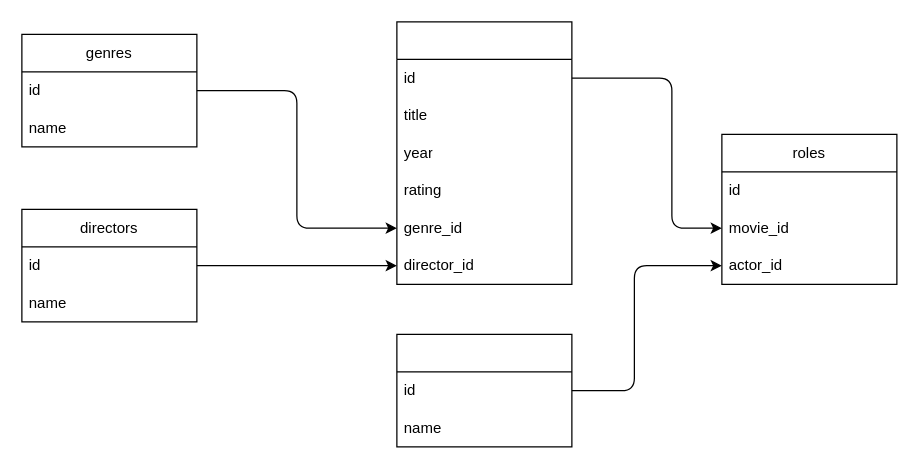
The diagram is 919 pixels wide and 469 high, and some of its shapes have lost their labels. The shapes that lost their labels are listed below. From the top down, each one's box as (x1, y1, x2, y2) in pixels, then its label:
(396, 21, 572, 284): movies
(396, 333, 572, 447): actors
